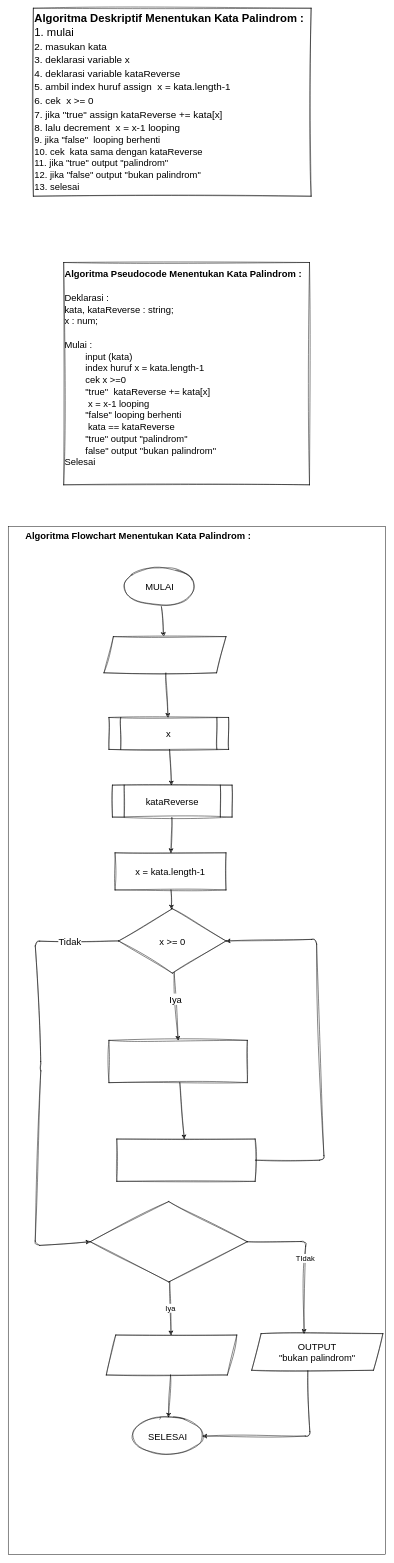
This 394x1563 diagram has some shape labels left out. The shapes that lost their labels are listed below. From the top down, each one's centre as x and y in pixels, then its label:
point 164,654: INPUT kata
point 177,1061: kataReverse += kata[x]
point 185,1160: x = x -1
point 168,1241: kata == KataReverse
point 171,1355: OUTPUT "palindrom"
